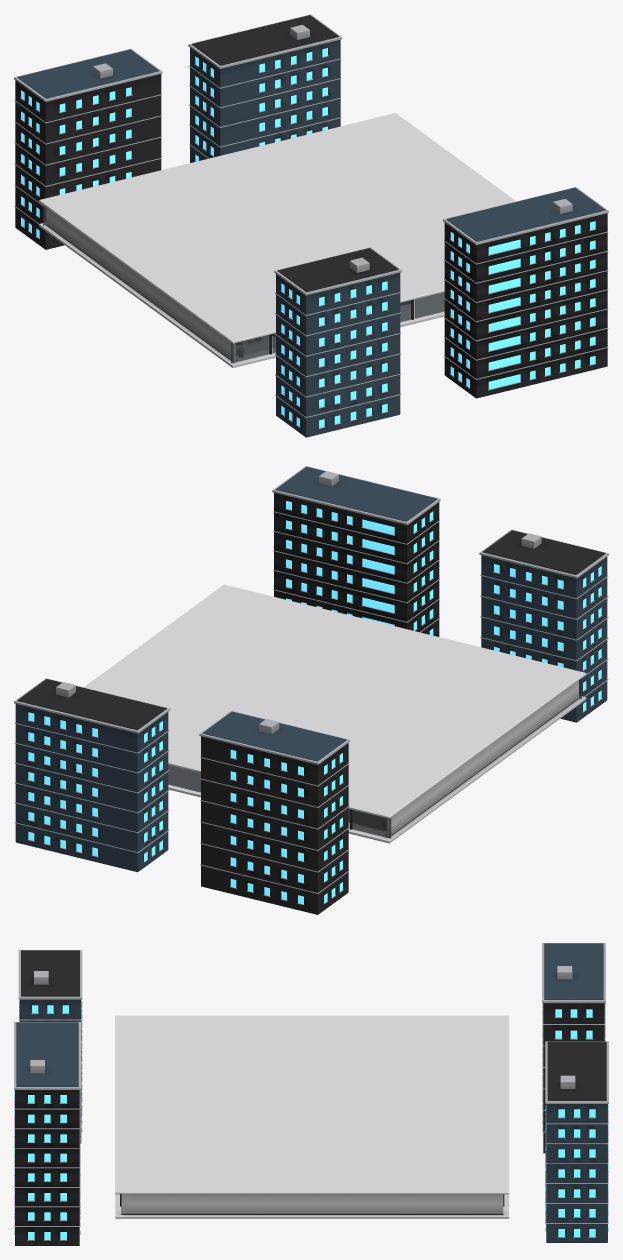
The model's file is hd_office.glb.
3 views of the same model, one above another, from view 1: azimuth 30°, elevation 25°; view 2: azimuth 150°, elevation 25°; view 3: azimuth 270°, elevation 25° (orthographic).
Visible parts, largest first — view 1: Ceiling_Main, Office_Skyline_black_metal_NonCol, Office_Skyline_wall_accent_NonCol, Office_Skyline_stainless_NonCol, Office_Skyline_screen_display_NonCol, Wall_West_Drywall, Floor_Main_Marble, Window_Glass_Curtain_S_6, Window_Glass_Curtain_S_38; view 2: Ceiling_Main, Office_Skyline_black_metal_NonCol, Office_Skyline_wall_accent_NonCol, Office_Skyline_stainless_NonCol, Office_Skyline_screen_display_NonCol, Wall_West_Drywall, Floor_Main_Marble, Window_Glass_Curtain_N_6, Window_Glass_Curtain_N_38; view 3: Ceiling_Main, Office_Skyline_black_metal_NonCol, Office_Skyline_wall_accent_NonCol, Wall_East_Drywall, Office_Skyline_stainless_NonCol, Office_Skyline_screen_display_NonCol, Floor_Main_Marble.
Boxes of the visible parts, bbox=[...] form: Ceiling_Main: bbox=[39, 113, 515, 343]; Office_Skyline_black_metal_NonCol: bbox=[15, 15, 607, 398]; Office_Skyline_wall_accent_NonCol: bbox=[17, 39, 605, 437]; Office_Skyline_stainless_NonCol: bbox=[14, 14, 608, 428]; Office_Skyline_screen_display_NonCol: bbox=[21, 48, 595, 427]; Wall_West_Drywall: bbox=[46, 207, 235, 362]; Floor_Main_Marble: bbox=[39, 223, 444, 367]; Window_Glass_Curtain_S_6: bbox=[231, 335, 269, 363]; Window_Glass_Curtain_S_38: bbox=[414, 292, 444, 318]; Ceiling_Main: bbox=[84, 584, 586, 818]; Office_Skyline_black_metal_NonCol: bbox=[17, 493, 605, 914]; Office_Skyline_wall_accent_NonCol: bbox=[15, 466, 607, 872]; Office_Skyline_stainless_NonCol: bbox=[14, 466, 608, 905]; Office_Skyline_screen_display_NonCol: bbox=[28, 501, 601, 904]; Wall_West_Drywall: bbox=[386, 680, 578, 837]; Floor_Main_Marble: bbox=[168, 696, 586, 843]; Window_Glass_Curtain_N_6: bbox=[352, 810, 391, 838]; Window_Glass_Curtain_N_38: bbox=[168, 765, 200, 792]; Ceiling_Main: bbox=[115, 1015, 509, 1194]; Office_Skyline_black_metal_NonCol: bbox=[15, 950, 606, 1245]; Office_Skyline_wall_accent_NonCol: bbox=[16, 943, 607, 1242]; Wall_East_Drywall: bbox=[121, 1194, 503, 1213]; Office_Skyline_stainless_NonCol: bbox=[14, 943, 608, 1240]; Office_Skyline_screen_display_NonCol: bbox=[14, 1000, 608, 1239]; Floor_Main_Marble: bbox=[115, 1194, 509, 1218].
Size of what is drawn, in the model's own units: 204 by 89.43 by 290.
